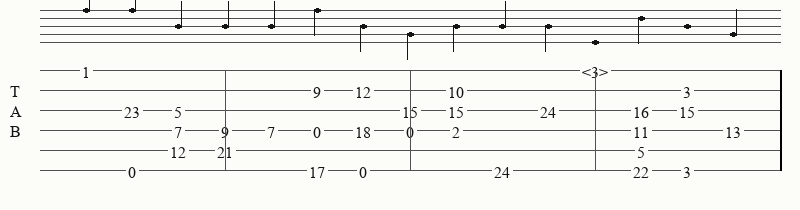0: (128, 163, 140, 178), (313, 123, 325, 138), (359, 163, 371, 178), (406, 123, 418, 138)
1: (82, 63, 94, 78)
10: (448, 83, 468, 98)
11: (633, 123, 653, 138)
12: (170, 143, 190, 158), (355, 83, 375, 98)
13: (725, 123, 745, 138)
15: (402, 103, 422, 118), (448, 103, 468, 118), (679, 103, 699, 118)
16: (633, 103, 653, 118)
17: (309, 163, 329, 178)
18: (355, 123, 375, 138)
2: (452, 123, 464, 138)
21: (217, 143, 237, 158)
22: (633, 163, 653, 178)
23: (124, 103, 144, 118)
24: (494, 163, 514, 178), (540, 103, 560, 118)
3: (683, 163, 695, 178), (683, 83, 695, 98)
5: (174, 103, 186, 118), (637, 143, 649, 158)
7: (174, 123, 186, 138), (267, 123, 279, 138)
9: (221, 123, 233, 138), (313, 83, 325, 98)
harmonic: (582, 63, 612, 78)
